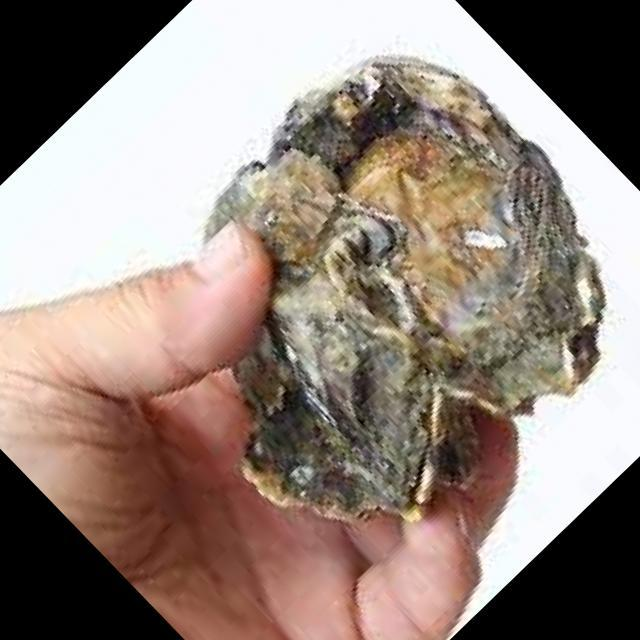Oyster- Indeterminate: (264, 44, 640, 411), (206, 149, 472, 517)
